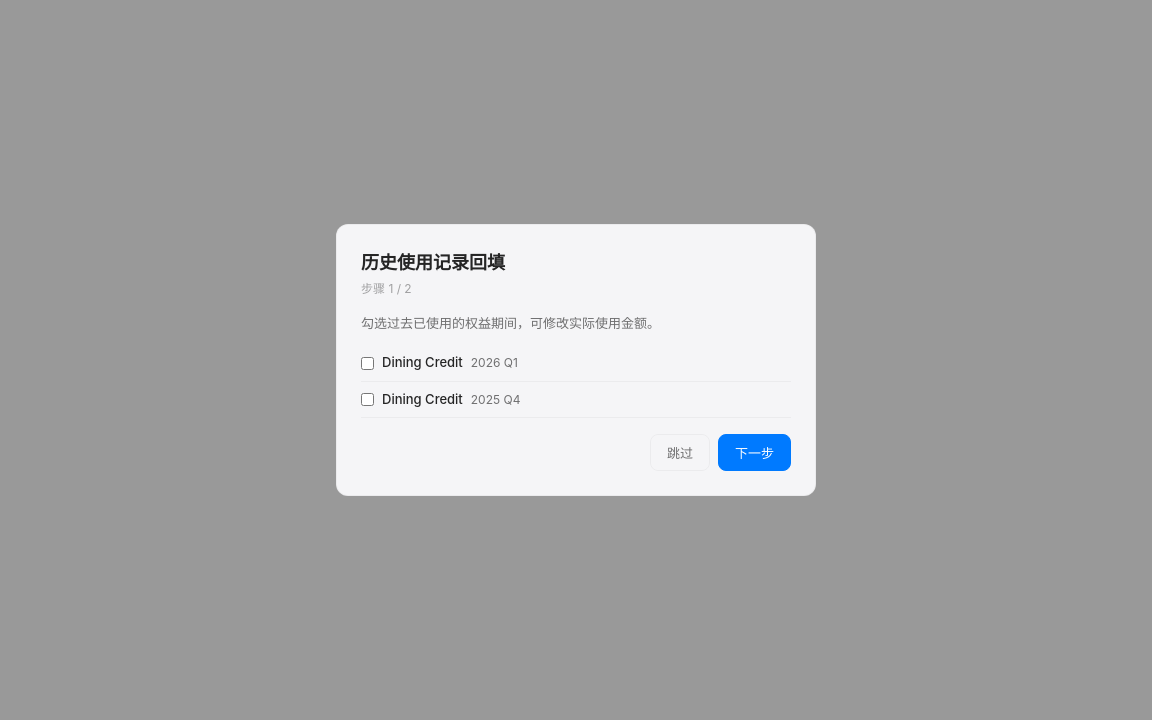
BackfillDialog › skips step 2 when no benefits are rolloverable
Click the button "跳过": click(680, 453) [650, 434, 710, 471]
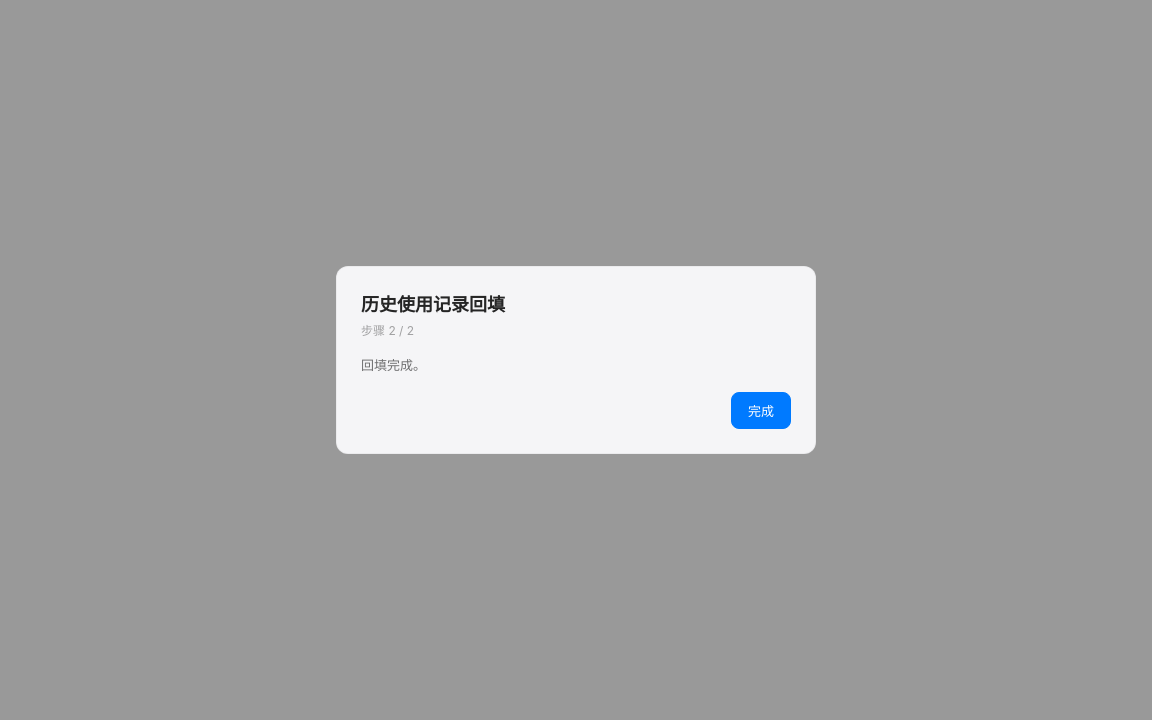
Now the button "完成" is shown, box [731, 392, 791, 429]
